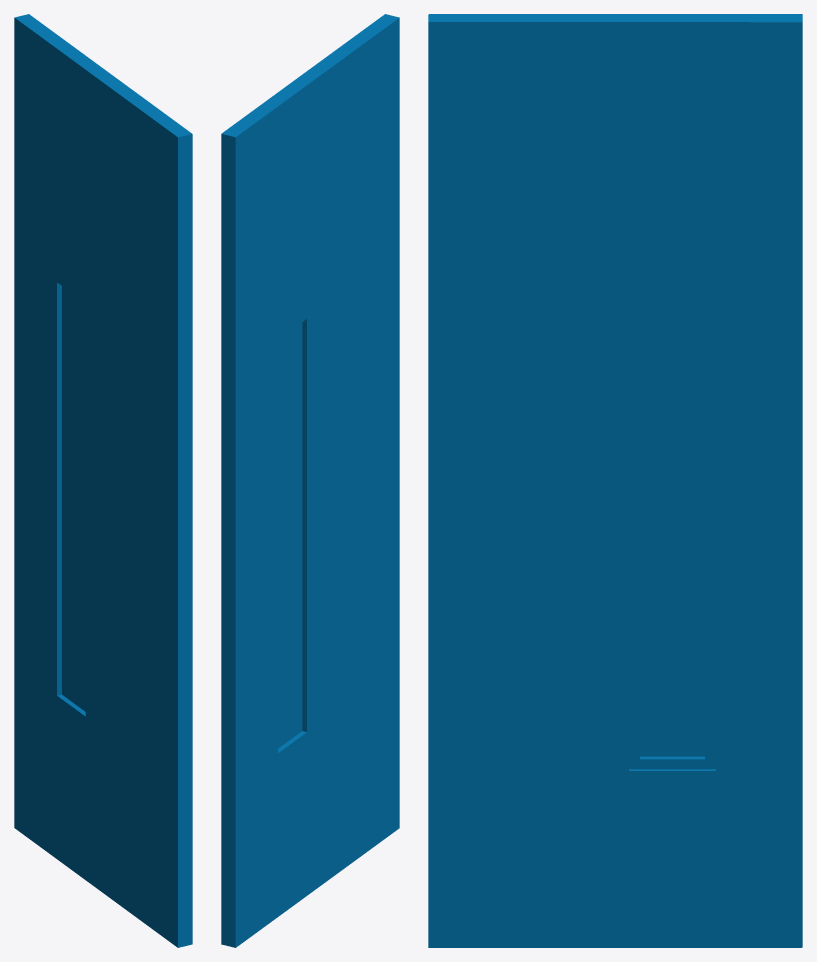
Rendered from MainDoor1bTransformed1b.fbx.
3 views of the same model, side by side, from view 1: azimuth 30°, elevation 25°; view 2: azimuth 150°, elevation 25°; view 3: azimuth 270°, elevation 25° (orthographic). The views are drawn at different scales.
Visible parts, largest first — view 1: HB_Door_Concept_Int_Dbl_Solid_VP_- DT-04:1810x2410mm RB DT 0; view 2: HB_Door_Concept_Int_Dbl_Solid_VP_- DT-04:1810x2410mm RB DT 0; view 3: HB_Door_Concept_Int_Dbl_Solid_VP_- DT-04:1810x2410mm RB DT 0.
Boxes of the visible parts, x1,y1,x2,y2 form: HB_Door_Concept_Int_Dbl_Solid_VP_- DT-04:1810x2410mm RB DT 0: (14, 14, 192, 947); HB_Door_Concept_Int_Dbl_Solid_VP_- DT-04:1810x2410mm RB DT 0: (221, 14, 399, 947); HB_Door_Concept_Int_Dbl_Solid_VP_- DT-04:1810x2410mm RB DT 0: (428, 14, 802, 947).
Size of the model in its own units: 0.0446 by 2.35 by 0.8615.
